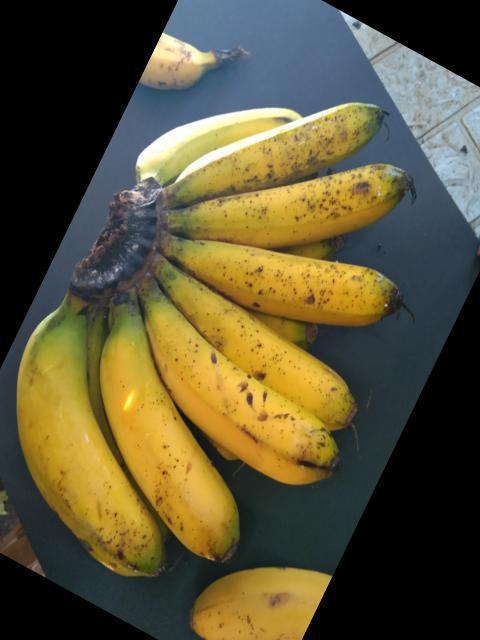ripe: (16, 278, 161, 570), (88, 285, 230, 557), (159, 208, 405, 320), (146, 107, 385, 201), (171, 150, 412, 239)
